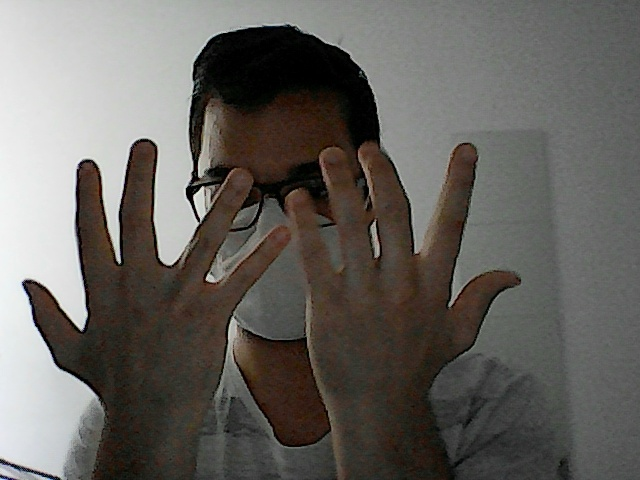jump: (18, 131, 295, 388), (285, 135, 527, 401)
